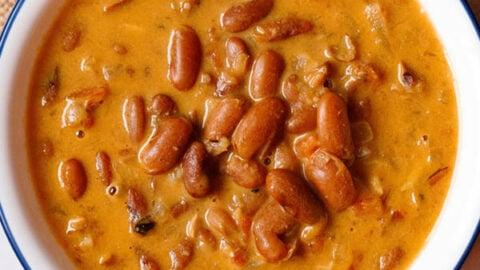rajma: (19, 0, 480, 270)
